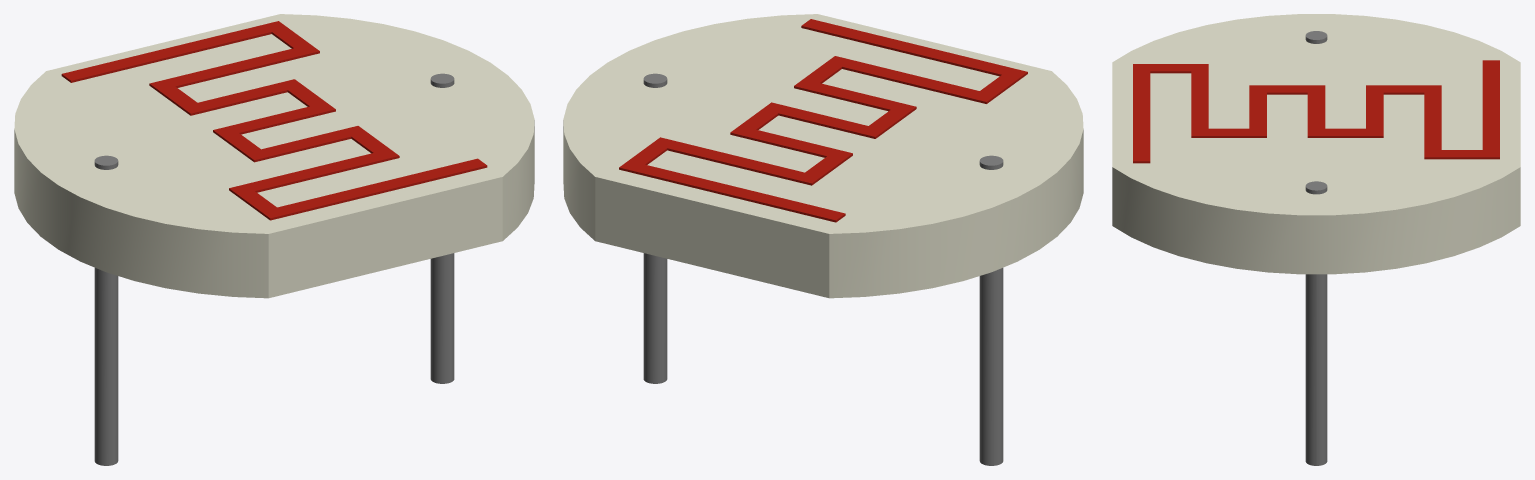
The model's file is kc-r_ldr_11x9.4mm_p8.2mm_vertical.glb.
3 renders of one model, left to right at view 1: azimuth 30°, elevation 25°; view 2: azimuth 150°, elevation 25°; view 3: azimuth 270°, elevation 25°, orthographic. The views are drawn at different scales.
Parts seen in each view (by area): view 1: 0.75_0.75_0.6666666666666666_0, 0.4166666666666667_0_0_0, 0.25_0.25_0.25_0; view 2: 0.75_0.75_0.6666666666666666_0, 0.4166666666666667_0_0_0, 0.25_0.25_0.25_0; view 3: 0.75_0.75_0.6666666666666666_0, 0.4166666666666667_0_0_0, 0.25_0.25_0.25_0.
Boxes of the visible parts, <box> form: 0.75_0.75_0.6666666666666666_0: <box>14,14,534,298</box>; 0.4166666666666667_0_0_0: <box>61,21,487,220</box>; 0.25_0.25_0.25_0: <box>94,73,454,465</box>; 0.75_0.75_0.6666666666666666_0: <box>563,14,1083,298</box>; 0.4166666666666667_0_0_0: <box>619,19,1027,222</box>; 0.25_0.25_0.25_0: <box>643,73,1003,465</box>; 0.75_0.75_0.6666666666666666_0: <box>1112,14,1520,274</box>; 0.4166666666666667_0_0_0: <box>1133,60,1499,163</box>; 0.25_0.25_0.25_0: <box>1305,31,1327,465</box>.
Size of the model in its own units: 1.1 by 0.7001 by 0.94.
